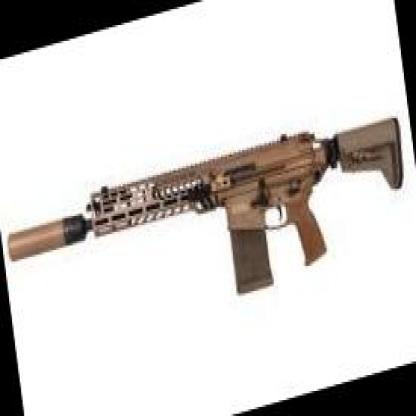rifle: (4, 93, 416, 359)
